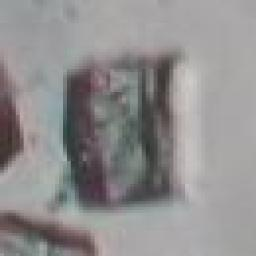crystals: (62, 55, 184, 212)
